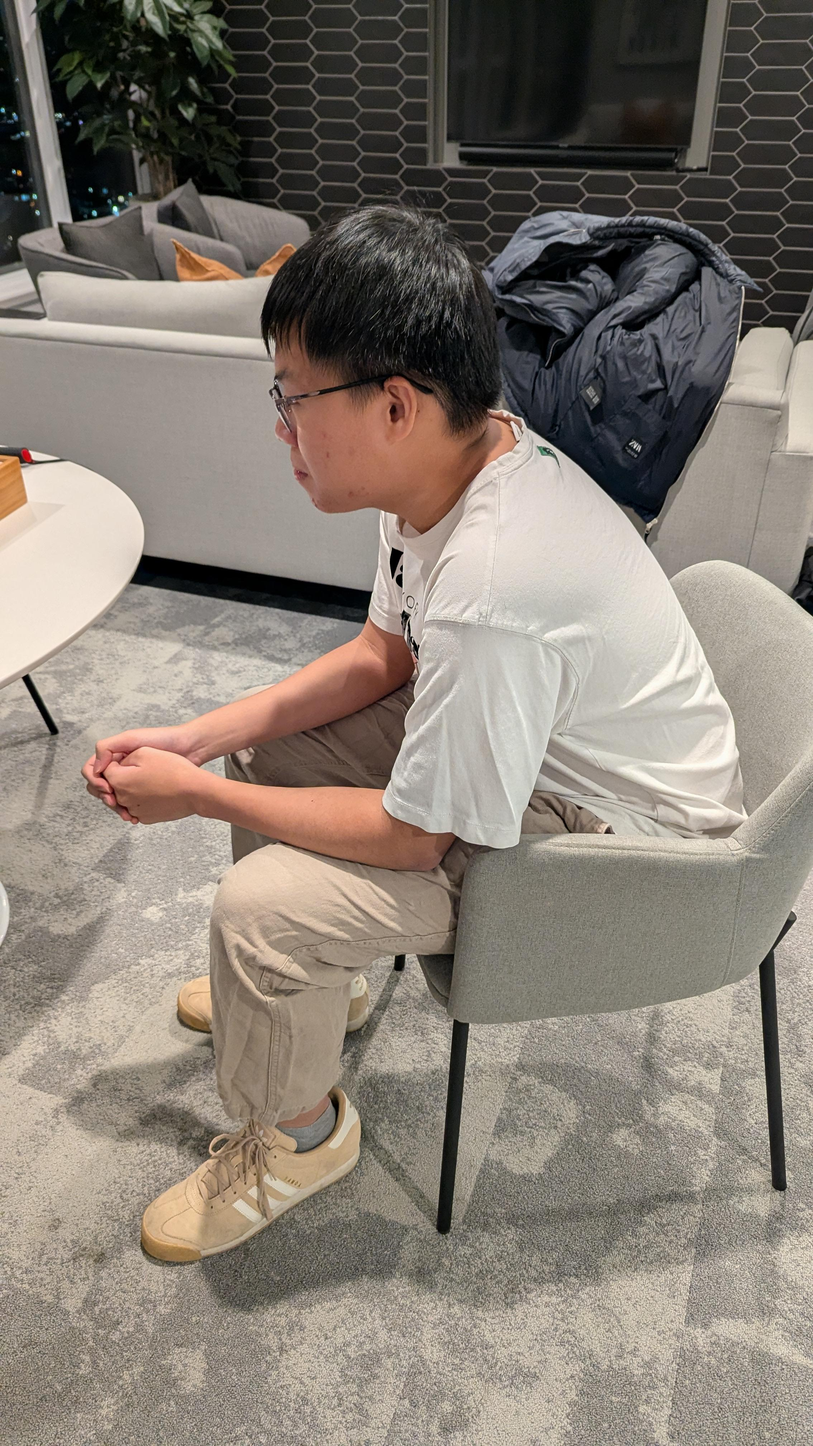BadPosture: (81, 204, 745, 1261)
